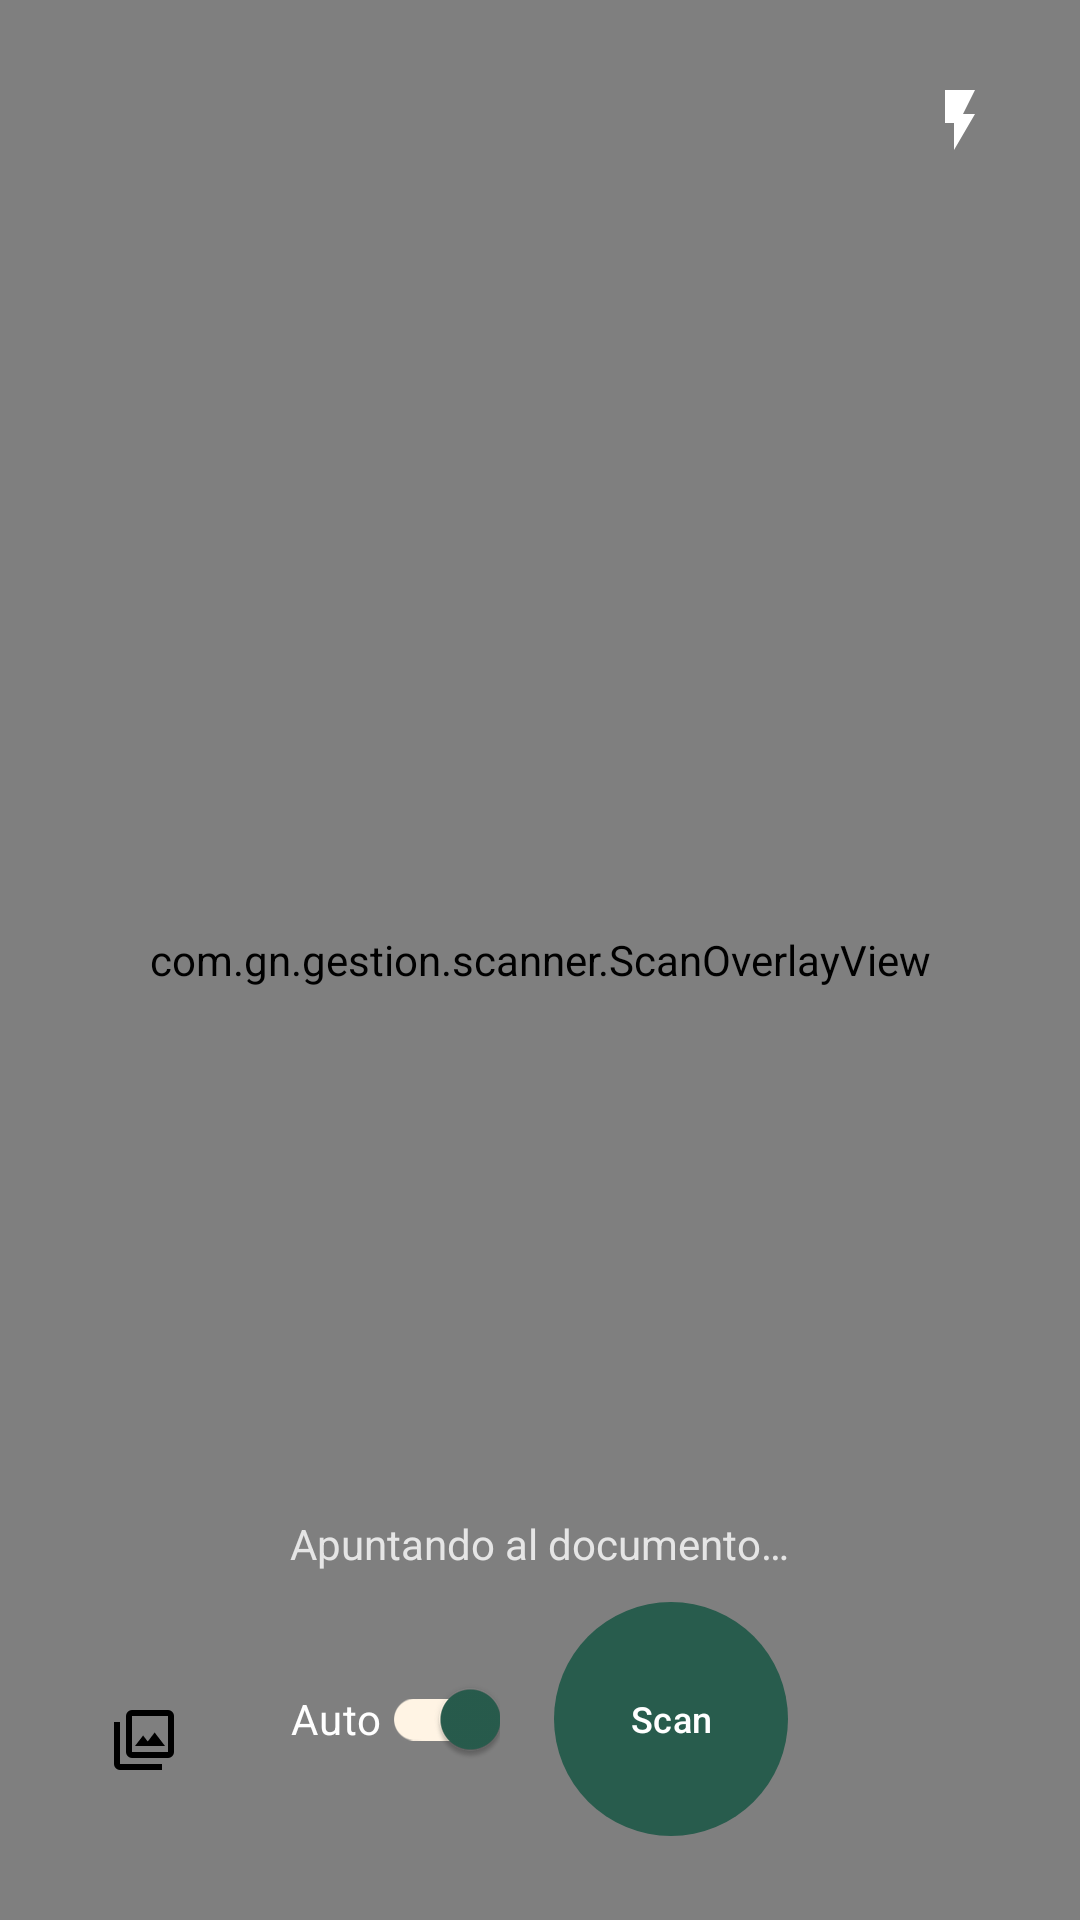

Locate icon controls on the screen. Image size 1080px x 1920px, boxes as [x1=x1, y1=y1, x2=x2, y2=y2].
Flash: [x1=945, y1=90, x2=975, y2=150]
Importar de la galería: [x1=114, y1=1710, x2=174, y2=1770]
